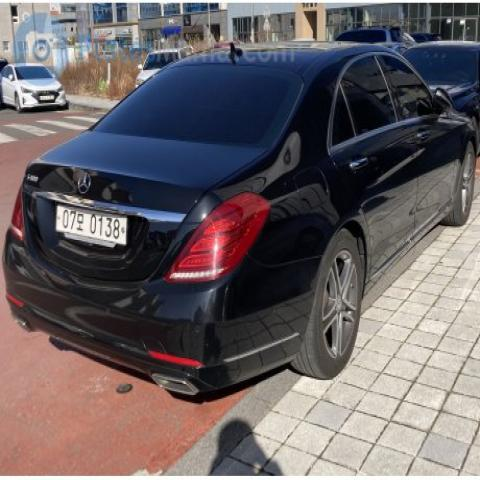LP: (51, 194, 133, 258)
